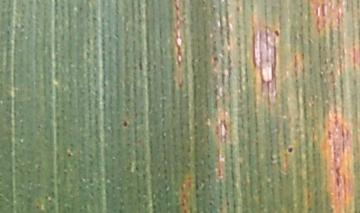tarspot: (285, 144, 296, 157), (119, 118, 131, 129), (272, 27, 280, 38), (66, 151, 73, 160)
